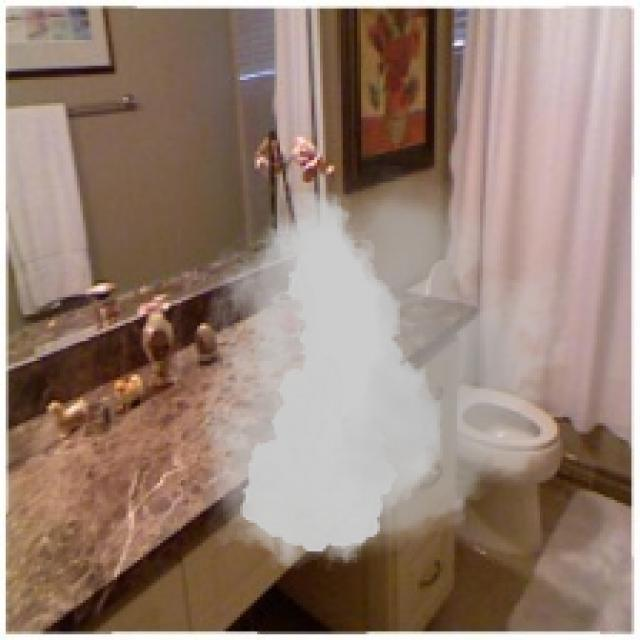Smoke: (172, 165, 592, 580)
